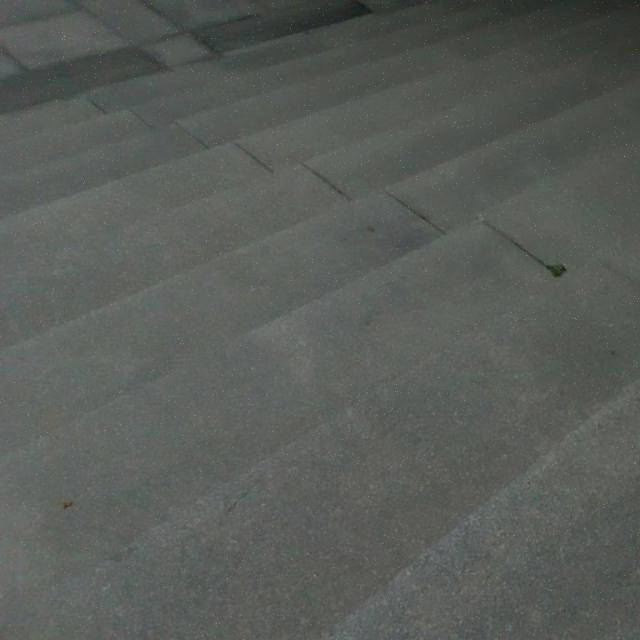stair: (0, 34, 623, 586)
